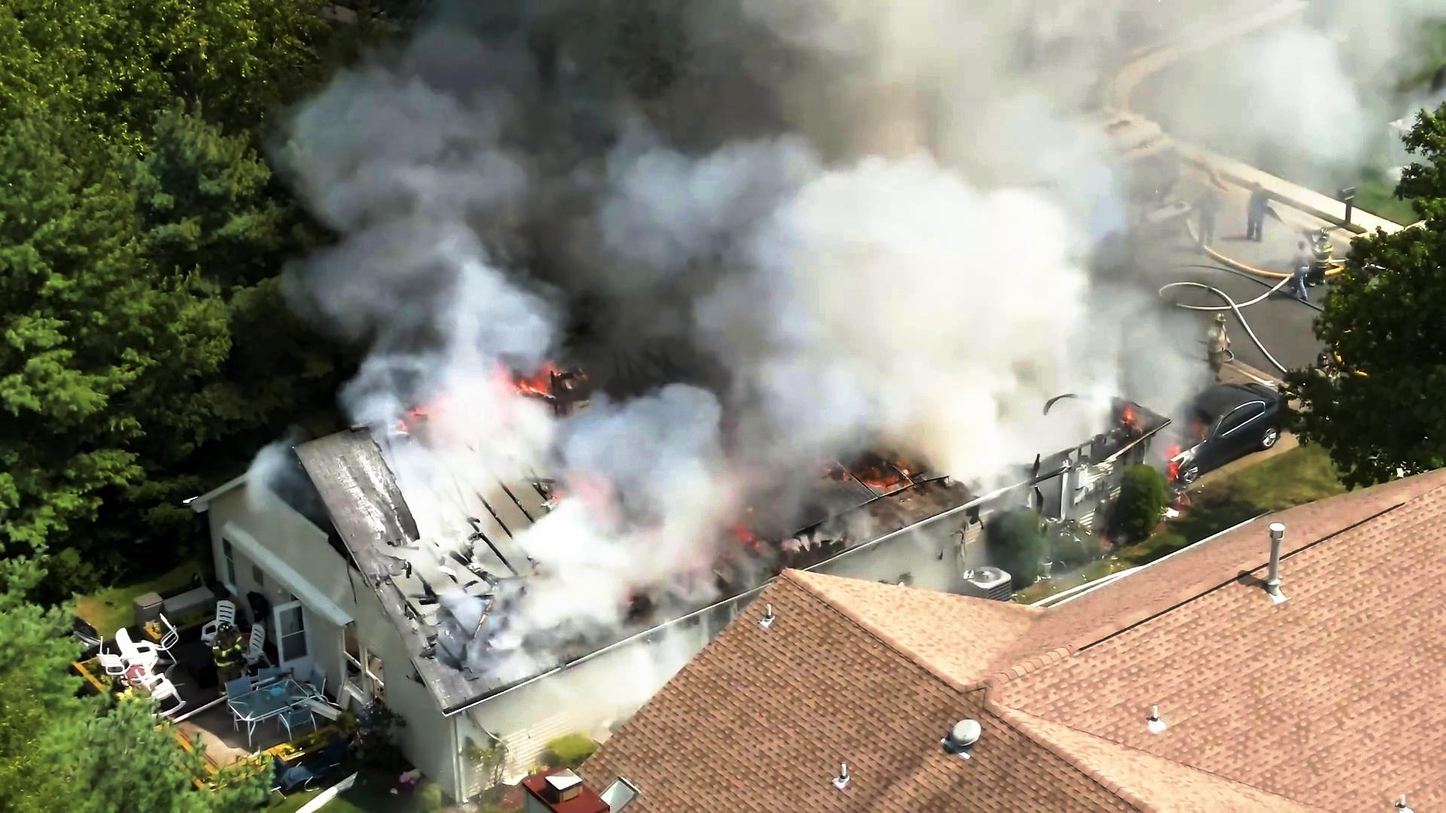smoke: (720, 132, 1067, 437), (290, 66, 540, 378), (531, 379, 749, 577)
